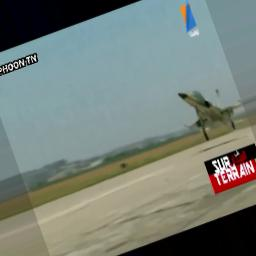Airplane: (176, 86, 244, 141)
